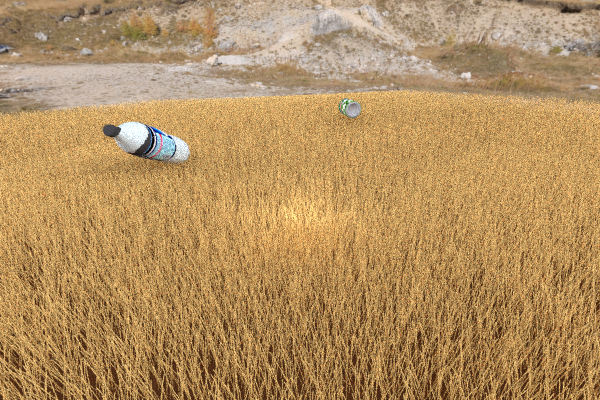bottle: (102, 121, 189, 164)
can: (338, 98, 361, 118)
